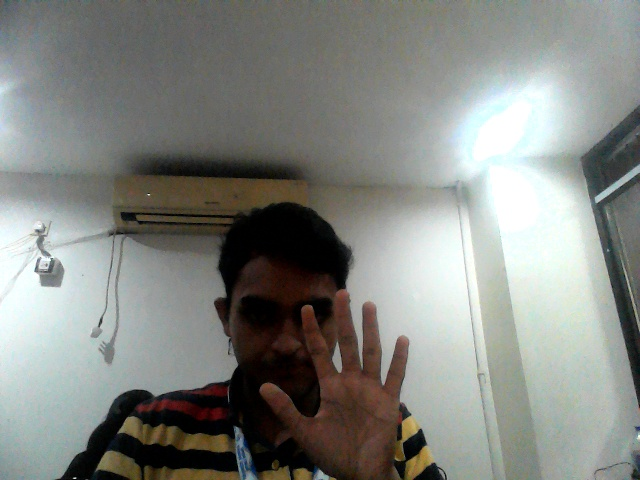palm: (259, 287, 441, 475)
